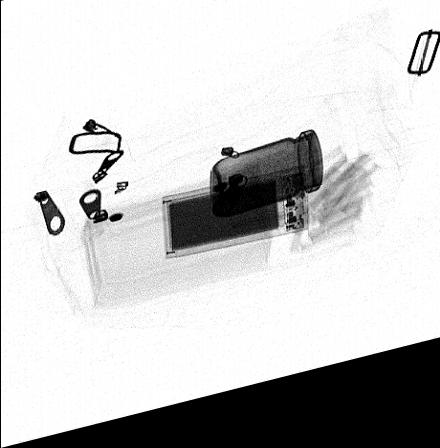Powerbank: (162, 179, 307, 268)
